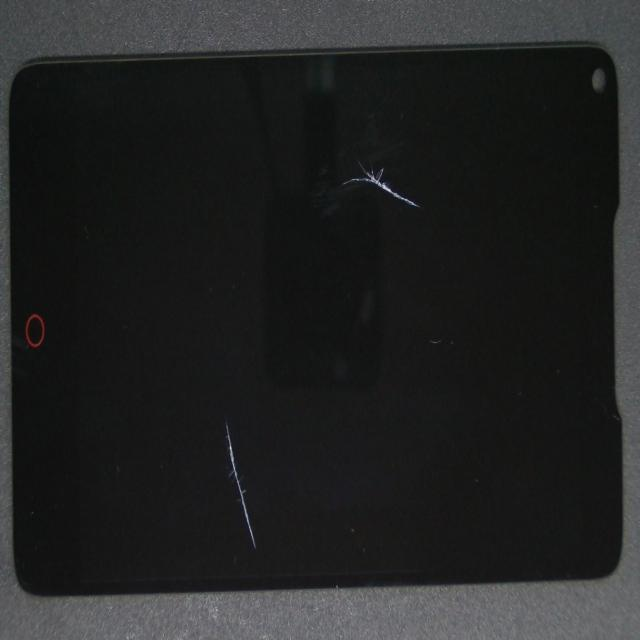scratch: (150, 319, 374, 640), (214, 57, 553, 231)
